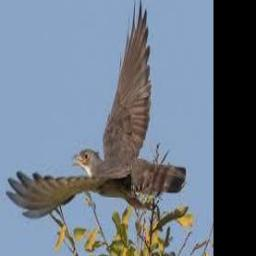Cuckoo: (6, 0, 187, 216)
